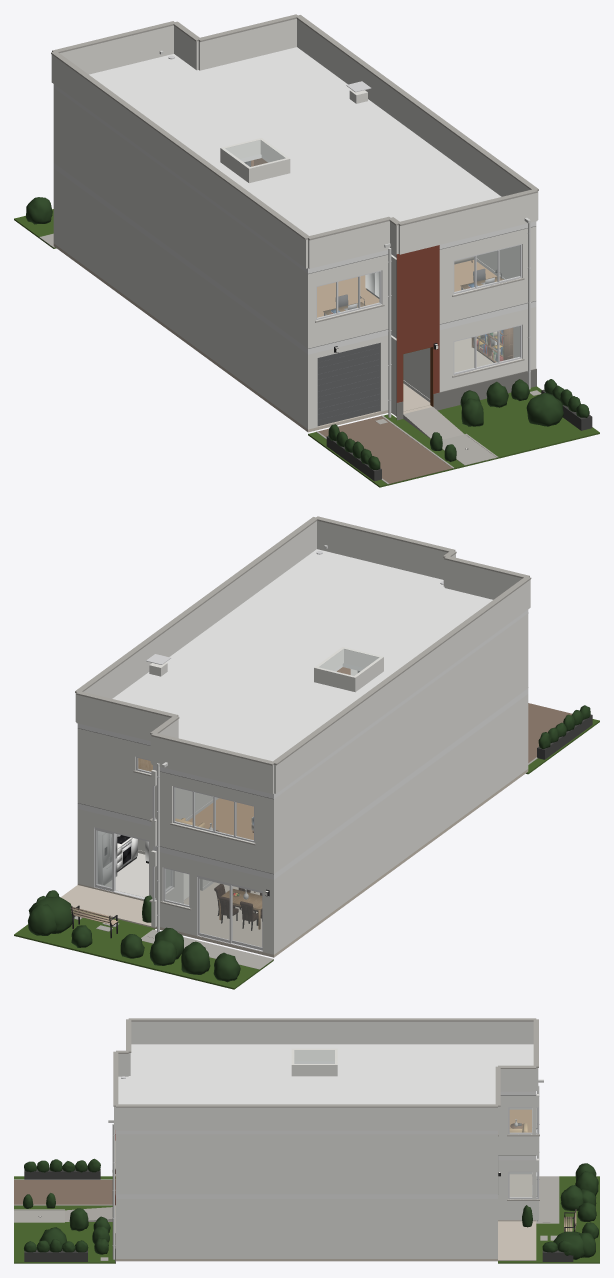
File: vivienda.glb
3 views of the same model, one above another, from view 1: azimuth 30°, elevation 25°; view 2: azimuth 150°, elevation 25°; view 3: azimuth 270°, elevation 25° (orthographic). The views are drawn at different scales.
Parts seen in each view (by area): view 1: losa_2, muro_51, muro_9, cubierta_7, cubierta_3, det_remate_parapeto, ext_0, porton_PT-1, cubierta_2, ext_1, det_caravista_PA, cubierta_6 (+39 smaller); view 2: losa_2, muro_9, muro_51, cubierta_7, cubierta_3, det_remate_parapeto, muro_63, ext_0, det_corrediza_PC-2_PB_3, cubierta_2, cubierta_6, losa_1 (+31 smaller); view 3: losa_2, muro_52, muro_10, cubierta_7, cubierta_3, ext_0, det_remate_parapeto, ext_1, losa_1, det_jardineras, ext_3, losa_0 (+23 smaller).
Boxes of the visible parts, x1,y1,x2,y2 form: losa_2: [53, 47, 536, 273]; muro_51: [56, 89, 305, 346]; muro_9: [56, 170, 305, 427]; cubierta_7: [51, 54, 307, 268]; cubierta_3: [297, 19, 538, 219]; det_remate_parapeto: [51, 14, 538, 240]; ext_0: [14, 209, 599, 487]; porton_PT-1: [317, 343, 379, 426]; cubierta_2: [398, 192, 537, 254]; ext_1: [318, 416, 452, 484]; det_caravista_PA: [396, 245, 439, 334]; cubierta_6: [60, 25, 173, 74]; losa_2: [77, 549, 528, 798]; muro_9: [276, 696, 525, 952]; muro_51: [276, 615, 525, 871]; cubierta_7: [274, 580, 530, 793]; cubierta_3: [75, 521, 316, 721]; det_remate_parapeto: [75, 516, 531, 765]; muro_63: [77, 728, 135, 816]; ext_0: [14, 719, 599, 989]; det_corrediza_PC-2_PB_3: [197, 875, 262, 951]; cubierta_2: [317, 520, 447, 579]; cubierta_6: [151, 736, 273, 794]; losa_1: [77, 688, 528, 879]; losa_2: [116, 1044, 536, 1134]; muro_52: [119, 1134, 494, 1194]; muro_10: [119, 1199, 494, 1258]; cubierta_7: [131, 1021, 533, 1044]; cubierta_3: [116, 1107, 497, 1130]; ext_0: [14, 1176, 599, 1263]; det_remate_parapeto: [113, 1018, 538, 1107]; ext_1: [14, 1180, 115, 1204]; losa_1: [116, 1156, 536, 1198]; det_jardineras: [24, 1169, 573, 1261]; ext_3: [498, 1221, 536, 1260]; losa_0: [116, 1220, 536, 1261].
Bounding box in the file's own units: 8.2 × 6.89 × 23.
74 materials, 7 textured.
